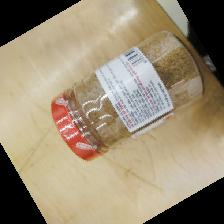Hao_hao: (49, 30, 206, 163)
